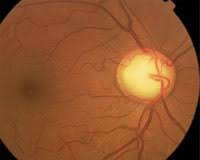Glaucoma section-1: (130, 60, 158, 91)
Glaucoma section-2: (115, 48, 175, 103)
